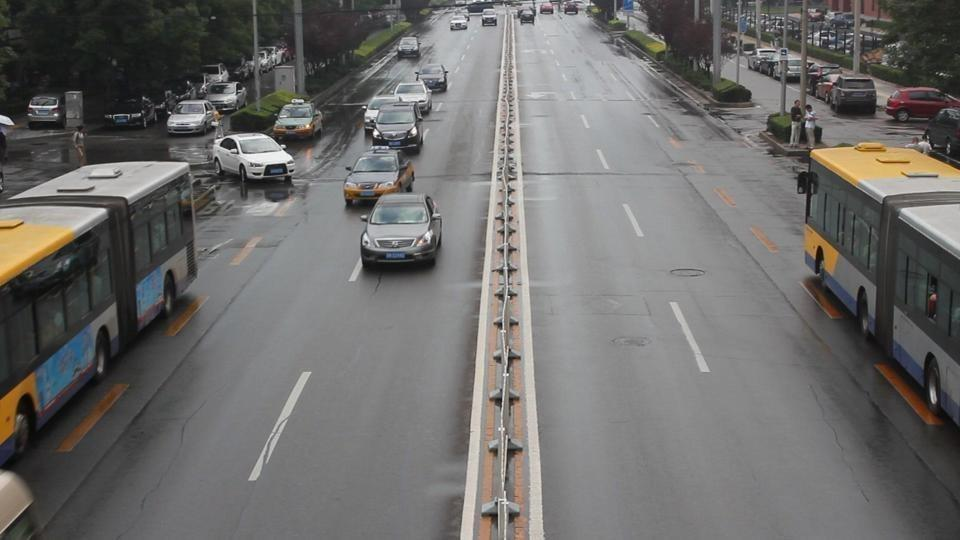car: (359, 191, 444, 268), (828, 75, 940, 117), (210, 133, 295, 184), (342, 149, 415, 206), (367, 105, 422, 155), (884, 87, 959, 122), (0, 469, 38, 536), (922, 108, 960, 167), (830, 73, 877, 116), (166, 100, 221, 136), (273, 102, 323, 140), (104, 97, 158, 129), (388, 81, 433, 118), (203, 82, 247, 114), (27, 94, 66, 130), (748, 47, 786, 75), (414, 64, 449, 92), (814, 67, 843, 99), (775, 58, 805, 81), (397, 35, 420, 58), (0, 112, 15, 143), (450, 13, 468, 31), (481, 12, 498, 27), (0, 114, 15, 128)
